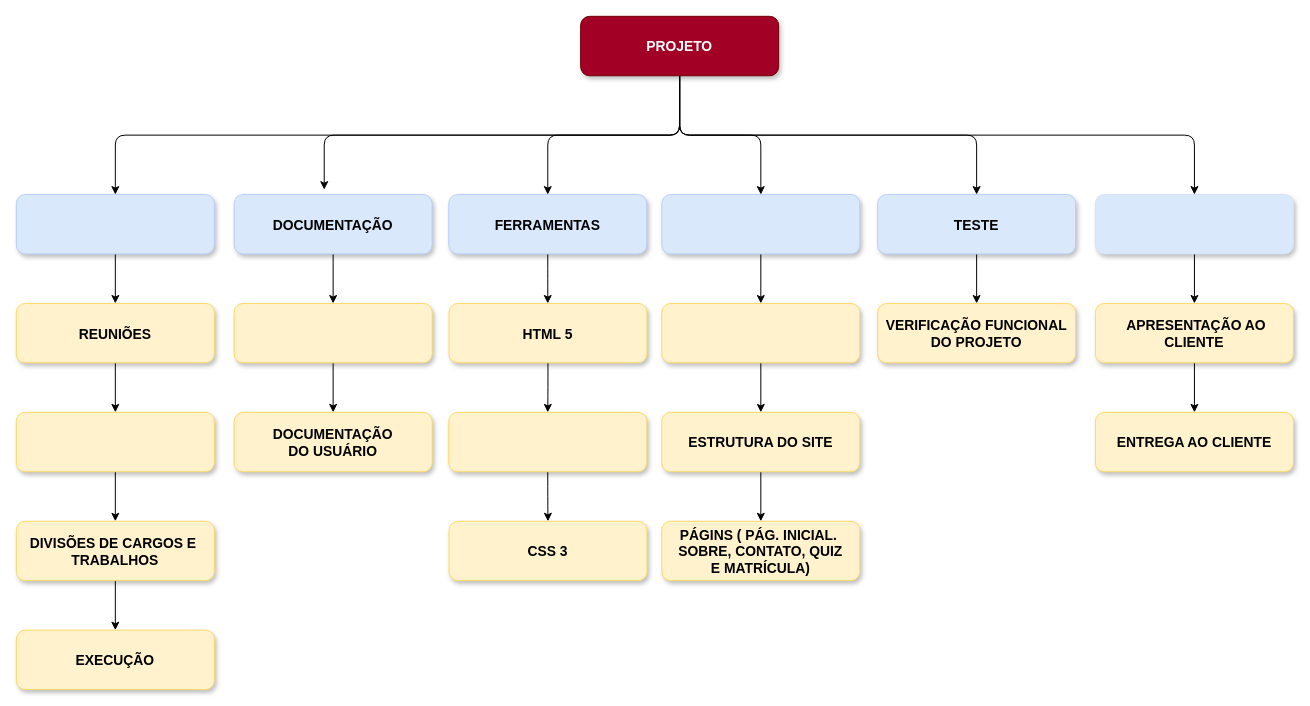
Image size: 1310x706. Some labels were removed from this diagram. The shapes that lost their labels are listed below. From the top down, each one's centre as x and y in pixels, then its label:
At point 115,225: "GERENCIAMENTO".
At point 761,225: "DESENVOLVIMENTO".
At point 1194,225: "ENCERRAMENTO".
At point 333,334: "TERMO DE ABETURA".
At point 761,334: "PROTÓTIPOS DE ALTA E BAIXA FIDELIDADE".
At point 115,443: "PLANEJAMENTO".
At point 548,443: "JavaScripy(ECMAScript)".
